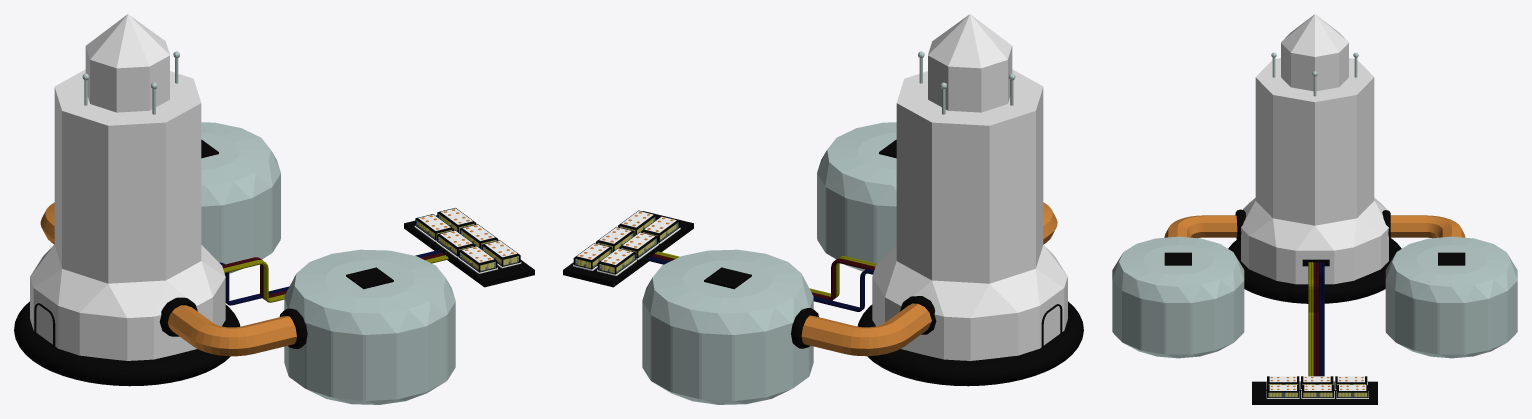
Rendered from Rafinery.fbx.
3 views of the same model, side by side, from view 1: azimuth 30°, elevation 25°; view 2: azimuth 150°, elevation 25°; view 3: azimuth 270°, elevation 25° (orthographic). The views are drawn at different scales.
Visible parts, largest first — view 1: Base, TankR, TankL, Torus.004, BronzePipe, Cube.023, RTankCloser, Torus.002, Torus.003, Cylinder.225; view 2: Base, TankL, TankR, Torus.004, BronzePipe, Cube.023, TankCloser, PipeEnterance, Cylinder.226; view 3: Base, TankL, TankR, Torus.004, BronzePipe, Cube.023, Cylinder.226, Cylinder.035, RTankCloser, TankCloser.
Boxes of the visible parts, x1,y1,x2,y2 form: Base: (30, 14, 225, 360); TankR: (284, 249, 455, 404); TankL: (201, 122, 280, 273); Torus.004: (14, 301, 240, 386); BronzePipe: (40, 202, 296, 356); Cube.023: (404, 215, 534, 287); RTankCloser: (346, 267, 393, 289); Torus.002: (159, 297, 197, 336); Torus.003: (279, 308, 307, 348); Cylinder.225: (223, 256, 448, 302); Base: (872, 14, 1067, 360); TankL: (642, 249, 813, 404); TankR: (817, 122, 896, 271); Torus.004: (857, 301, 1083, 386); BronzePipe: (801, 202, 1057, 356); Cube.023: (563, 211, 693, 287); TankCloser: (704, 267, 751, 289); PipeEnterance: (791, 308, 818, 348); Cylinder.226: (647, 257, 873, 311); Base: (1241, 14, 1388, 284); TankL: (1385, 236, 1517, 358); TankR: (1112, 236, 1244, 358); Torus.004: (1228, 238, 1401, 303); BronzePipe: (1164, 215, 1465, 238); Cube.023: (1252, 381, 1377, 404); Cylinder.226: (1321, 262, 1324, 376); Cylinder.035: (1313, 262, 1316, 376); RTankCloser: (1164, 252, 1191, 265); TankCloser: (1438, 252, 1465, 265).
Bounding box in the file's own units: 154 × 106 × 148.
